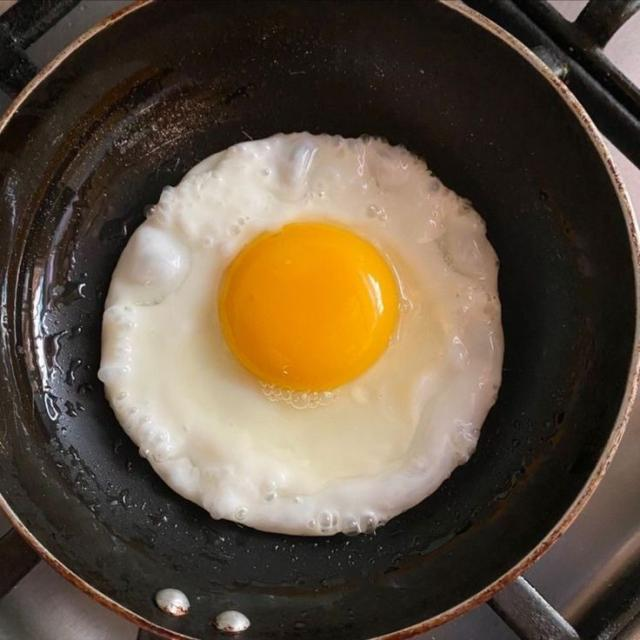fryed egg: (100, 134, 502, 534)
